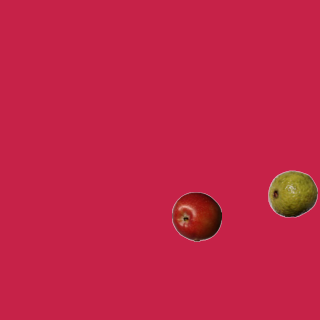Apple Braeburn: (171, 191, 221, 241)
Guava: (267, 168, 317, 218)
